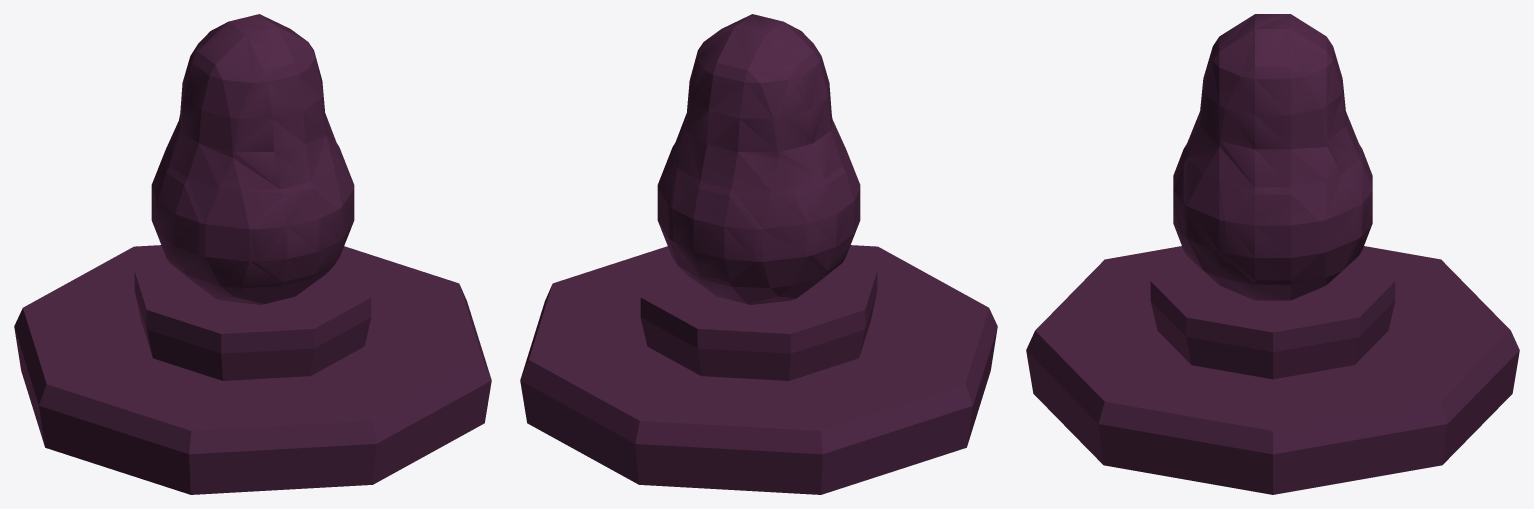
Rendered from shrine.glb.
3 renders of one model, left to right at view 1: azimuth 30°, elevation 25°; view 2: azimuth 150°, elevation 25°; view 3: azimuth 270°, elevation 25°, orthographic.
Parts seen in each view (by area): view 1: Podium, Body; view 2: Podium, Body; view 3: Podium, Body.
Boxes of the visible parts, x1,y1,x2,y2 form: Podium: (14,245,491,494); Body: (151,14,354,304); Podium: (520,245,997,494); Body: (657,14,860,304); Podium: (1026,246,1519,494); Body: (1173,14,1372,300).
Size of the model in its own units: 2.06 by 1.71 by 2.06.
2 materials, 2 textured.
